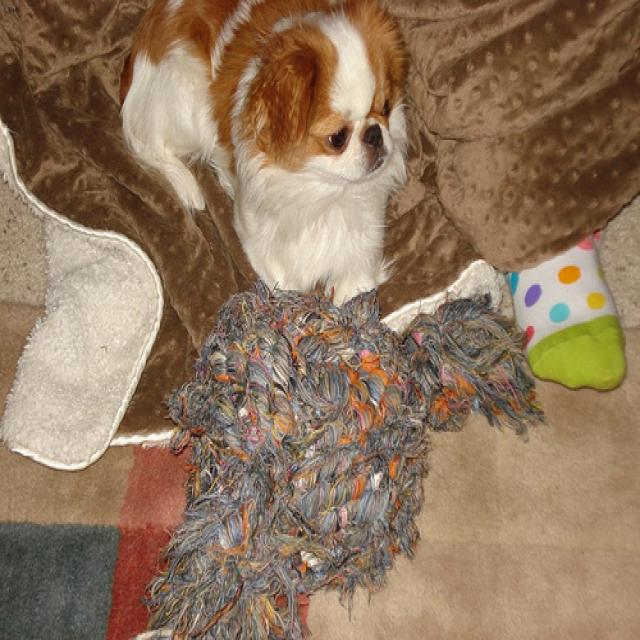dog-japanese_chin: (111, 2, 415, 312)
